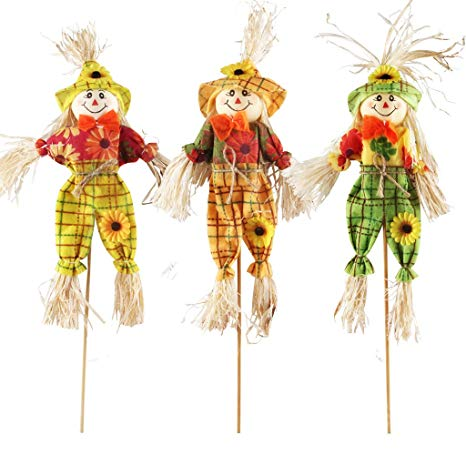person-like: (147, 1, 315, 345), (1, 19, 172, 337), (278, 57, 456, 345)
